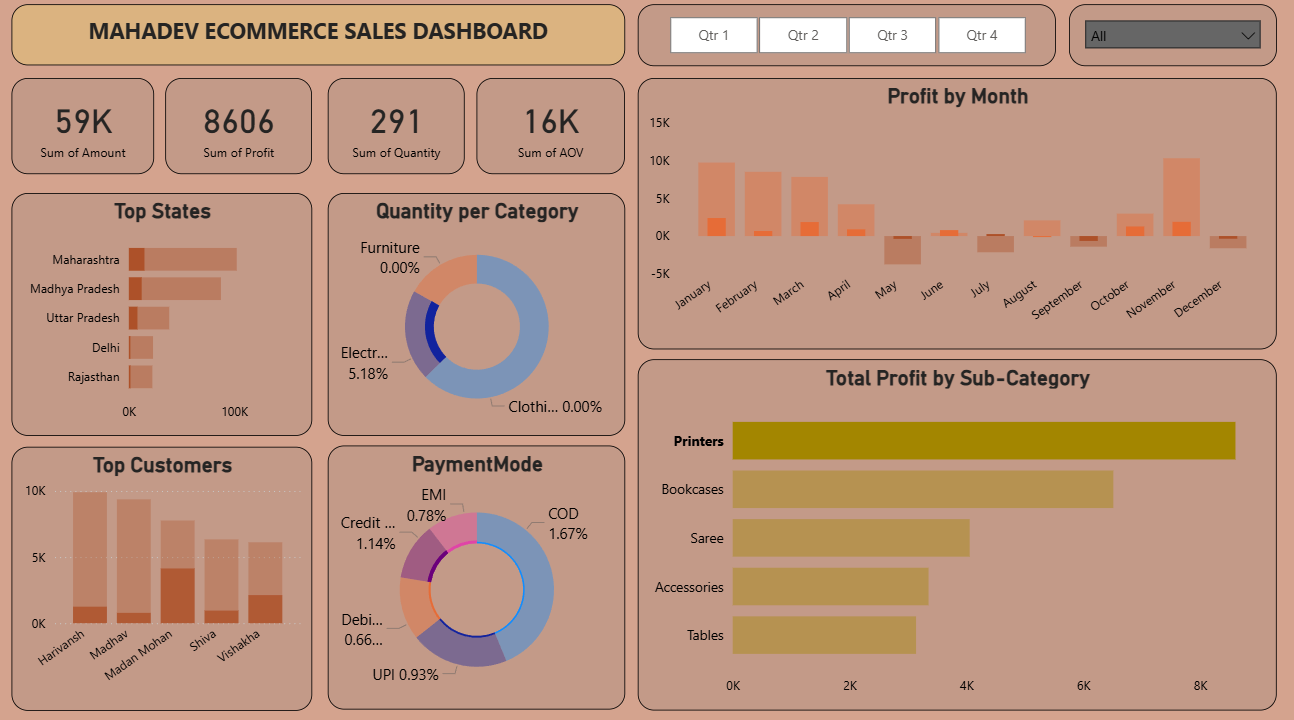

This screenshot's page, from the dashboard's own definition file:
{"tool":"powerbi","page":{"name":"Page 1","canvas":[1280,720],"ordinal":0},"visuals":[{"type":"textbox","box":[12.3,11,602.4,60.4],"z":0},{"type":"columnChart","title":"Profit by Month","fields":{"Y":["Sum(Details.Profit)"],"Category":["Orders.Order Date.Variation.Date Hierarchy.Month"]},"box":[627.1,83.7,627.1,266.2],"z":1000},{"type":"clusteredBarChart","title":"Total Profit by Sub-Category","fields":{"Category":["Details.Sub-Category"],"Y":["Sum(Details.Profit)"]},"box":[627.1,359.5,627.1,344.4],"z":2000},{"type":"pieChart","title":"Quantity per Category","fields":{"Category":["Details.Category"],"Y":["Sum(Details.Quantity)"]},"box":[322.5,196.2,292.3,238.8],"z":3000},{"type":"pieChart","title":" PaymentMode","fields":{"Y":["Sum(Details.Quantity)"],"Category":["Details.PaymentMode"]},"box":[322.5,444.6,292.3,259.3],"z":4000},{"type":"card","fields":{"Values":["Sum(Details.Profit)"]},"box":[163.3,83.7,144.1,94.7],"z":5000},{"type":"card","fields":{"Values":["Sum(Details.Amount)"]},"box":[12.3,83.7,140,94.7],"z":6000},{"type":"card","fields":{"Values":["Sum(Details.Quantity)"]},"box":[322.5,83.7,134.5,94.7],"z":7000},{"type":"card","fields":{"Values":["Sum(Details.AOV)"]},"box":[469.3,83.7,145.5,94.7],"z":8000},{"type":"barChart","title":"Top States","fields":{"Category":["Orders.State"],"Y":["Sum(Details.Amount)"]},"box":[12.3,196.2,295,238.8],"z":9000},{"type":"columnChart","title":" Top Customers","fields":{"Category":["Orders.CustomerName"],"Y":["Sum(Details.Amount)"]},"box":[12,445,295,259],"z":10000},{"type":"slicer","fields":{"Values":["Orders.Order Date.Variation.Date Hierarchy.Quarter"]},"box":[627,11.2,410.5,61],"z":11000},{"type":"slicer","fields":{"Values":["Orders.City"]},"box":[1049.9,11.2,204,61],"z":12000}]}

Visuals, with their boxes in screenshot pixels (x1, y1, x2, y2), scaled from the page's 1280x720 canvas onto the 1294x720 screenshot:
textbox: 12, 11, 621, 71
"Profit by Month" columnChart: 634, 84, 1268, 350
"Total Profit by Sub-Category" clusteredBarChart: 634, 360, 1268, 704
"Quantity per Category" pieChart: 326, 196, 622, 435
" PaymentMode" pieChart: 326, 445, 622, 704
card - Sum(Details.Profit): 165, 84, 311, 178
card - Sum(Details.Amount): 12, 84, 154, 178
card - Sum(Details.Quantity): 326, 84, 462, 178
card - Sum(Details.AOV): 474, 84, 622, 178
"Top States" barChart: 12, 196, 311, 435
" Top Customers" columnChart: 12, 445, 310, 704
slicer - Orders.Order Date.Variation.Date Hierarchy.Quarter: 634, 11, 1049, 72
slicer - Orders.City: 1061, 11, 1268, 72
